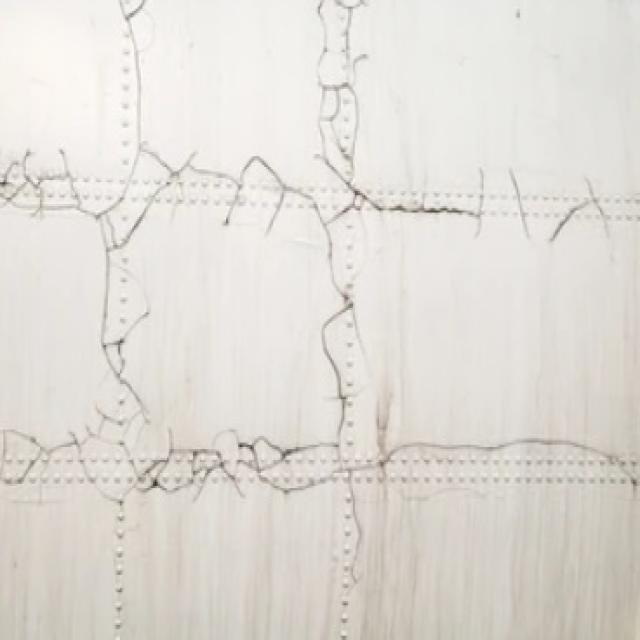crack: (2, 139, 623, 248), (2, 434, 632, 512), (311, 2, 376, 599), (94, 2, 167, 436)
